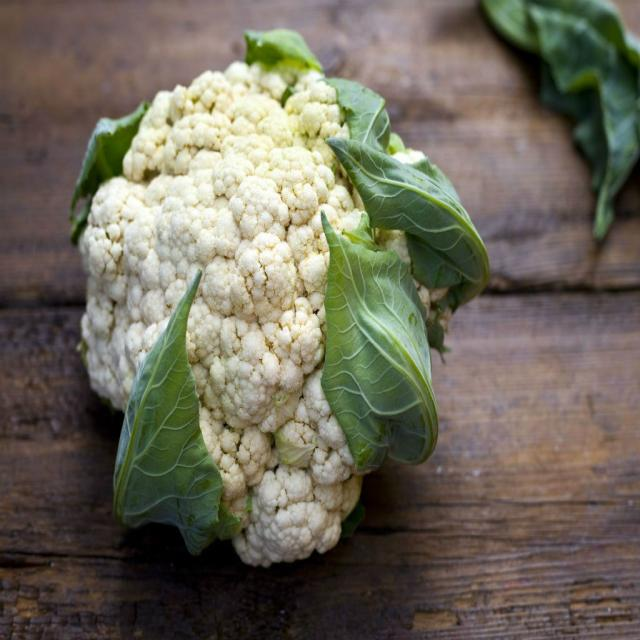Cauliflower: (51, 28, 485, 564)
